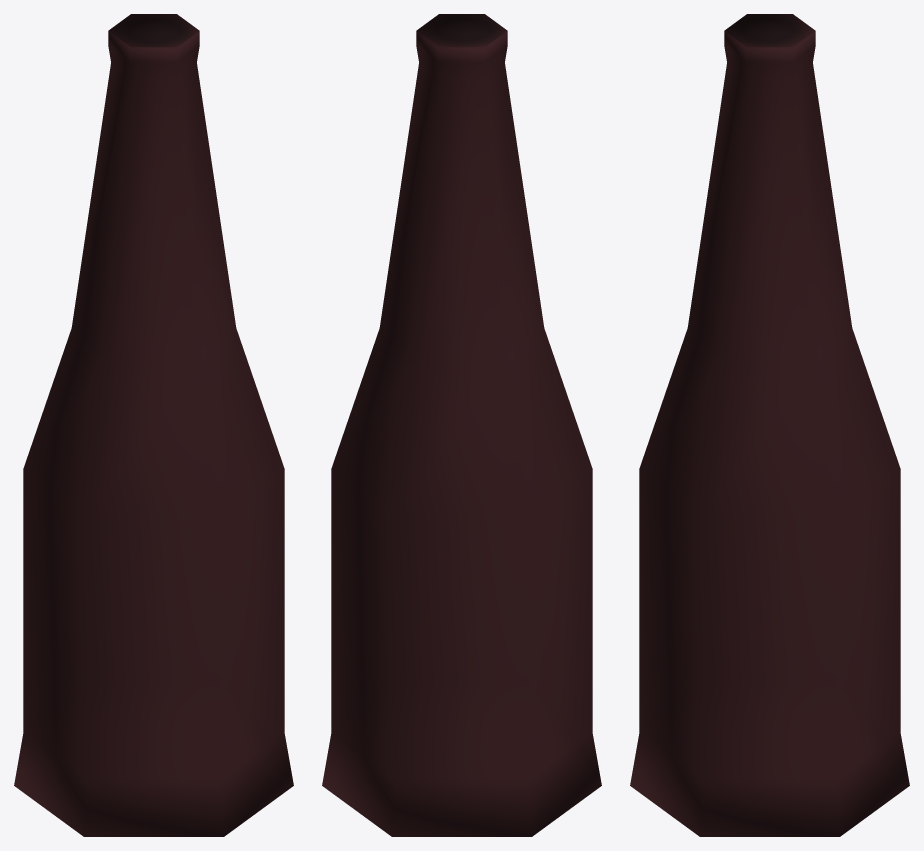
Rendered from glassbottle_4.glb.
3 views of the same model, side by side, from view 1: azimuth 30°, elevation 25°; view 2: azimuth 150°, elevation 25°; view 3: azimuth 270°, elevation 25° (orthographic).
Visible parts, largest first — view 1: GlassBottle_4; view 2: GlassBottle_4; view 3: GlassBottle_4.
Part boxes in pixels (box(x1,y1,x2,y2)): GlassBottle_4: box(14, 14, 293, 836); GlassBottle_4: box(322, 14, 601, 836); GlassBottle_4: box(630, 14, 909, 836).
Bounding box in the file's own units: 0.2436 × 0.8369 × 0.2812.
1 material, 1 textured.
